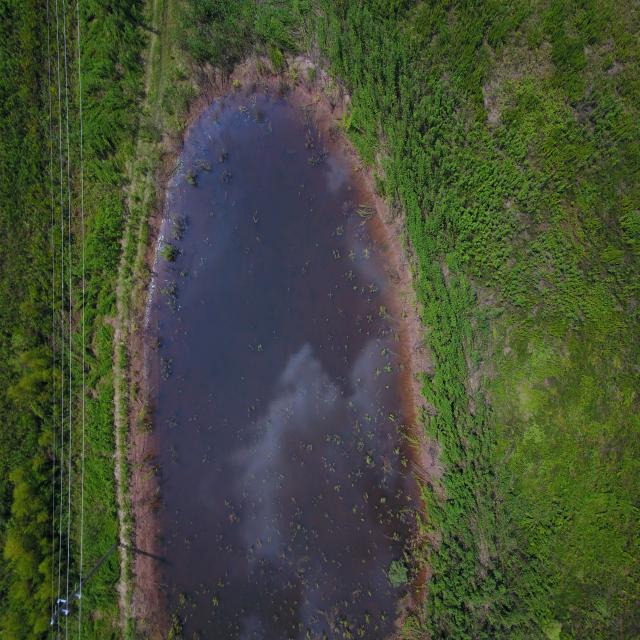fire: (145, 93, 419, 639)
